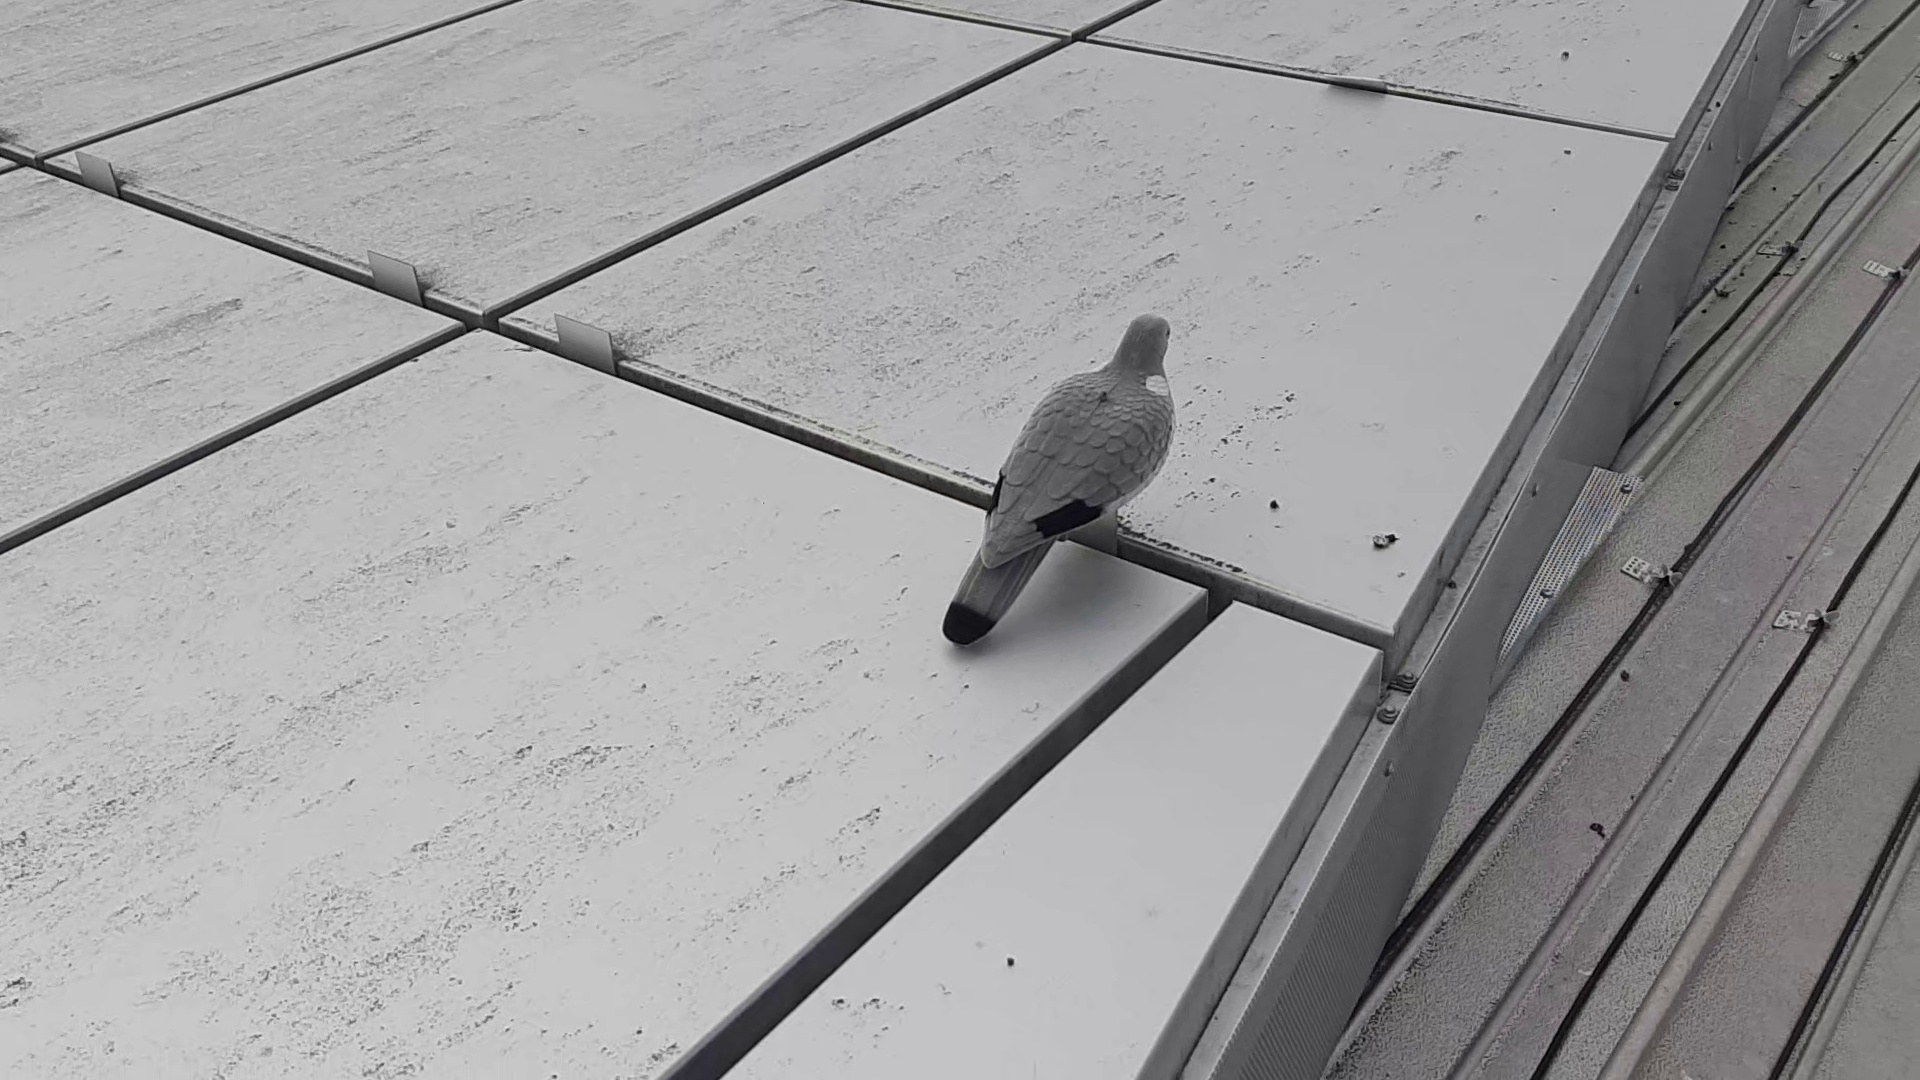Pigeon: (944, 311, 1193, 655)
